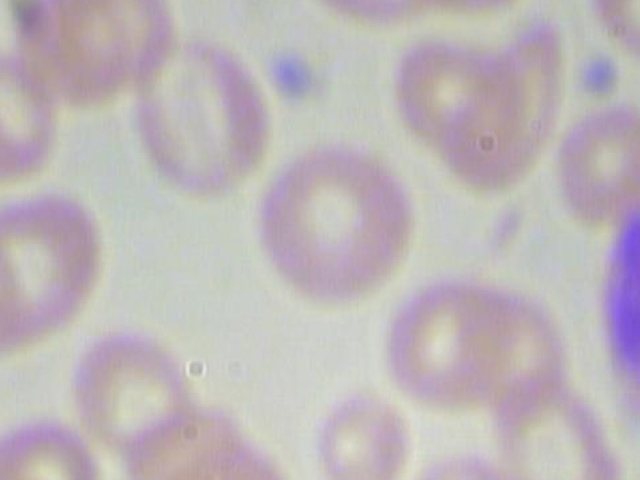Platelets: (257, 46, 323, 105), (569, 56, 624, 101)
